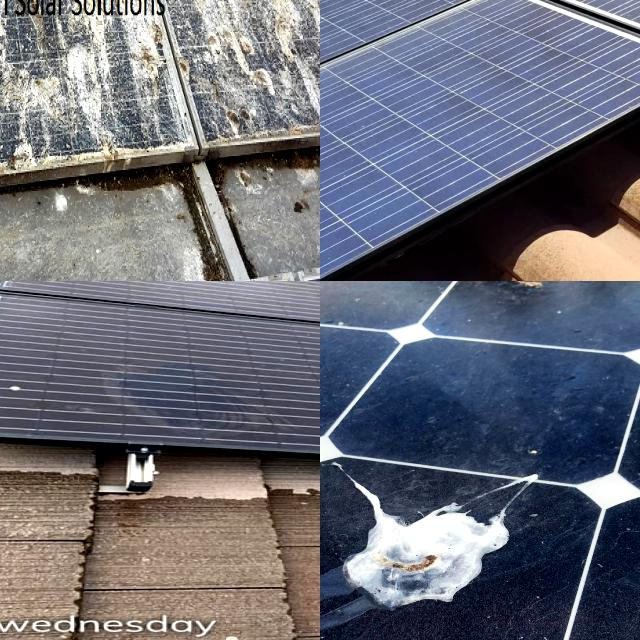bird: (320, 454, 553, 616), (182, 8, 244, 74), (17, 59, 67, 116), (0, 124, 34, 199), (251, 36, 282, 112), (136, 23, 166, 96), (240, 0, 307, 30), (0, 59, 24, 136), (0, 127, 41, 169), (0, 98, 19, 184), (218, 92, 254, 133), (55, 0, 99, 29), (206, 0, 237, 32), (0, 14, 16, 73), (3, 0, 40, 24), (133, 0, 196, 14), (0, 0, 21, 32), (0, 0, 30, 18), (38, 0, 82, 11), (0, 0, 18, 26), (0, 0, 12, 38)
dust: (378, 23, 564, 150), (320, 56, 393, 245), (528, 0, 640, 67), (320, 0, 424, 48)
